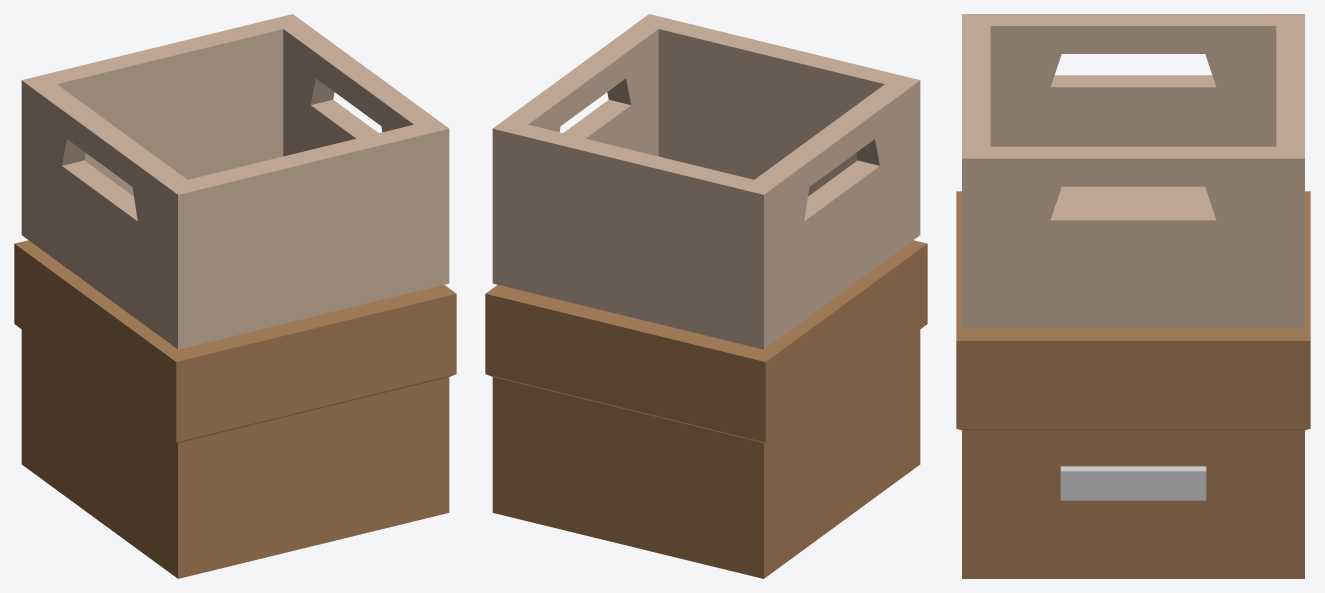
The picture shows the model from 3 angles, left to right: view 1: azimuth 30°, elevation 25°; view 2: azimuth 150°, elevation 25°; view 3: azimuth 270°, elevation 25°; orthographic projection. The views are drawn at different scales.
Visible parts, largest first — view 1: SM_Box_04; view 2: SM_Box_04; view 3: SM_Box_04.
Part boxes in pixels (bbox=[...]): SM_Box_04: bbox=[14, 14, 456, 578]; SM_Box_04: bbox=[485, 14, 927, 578]; SM_Box_04: bbox=[956, 14, 1310, 578].
Bounding box in the file's own units: 0.2785 × 0.3582 × 0.2736.
Materials: 1 (1 with a texture image).
